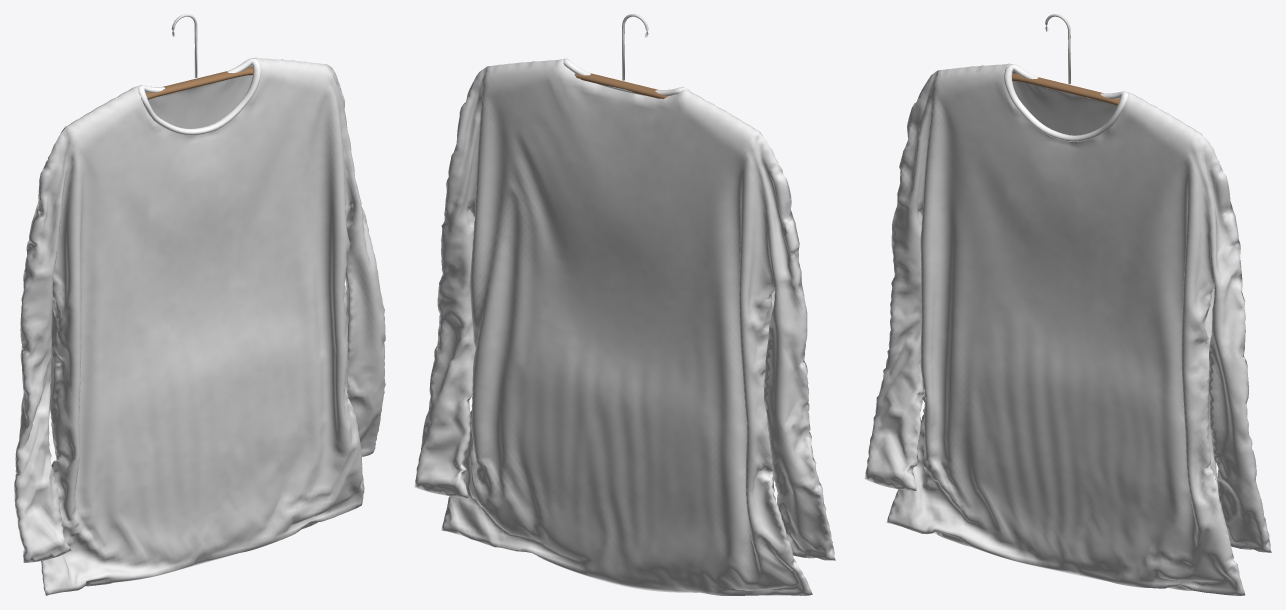
File: full-sleeve-v2.glb
3 views of the same model, side by side, from view 1: azimuth 30°, elevation 25°; view 2: azimuth 150°, elevation 25°; view 3: azimuth 330°, elevation 25° (orthographic). The views are drawn at different scales.
Parts seen in each view (by area): view 1: Shirt, Collar, HangerWood; view 2: Shirt, HangerWood; view 3: Shirt, Collar, HangerWood.
Boxes of the visible parts, box(x1,y1,x2,y2) form: Shirt: box(14, 57, 385, 595); Collar: box(137, 58, 261, 135); HangerWood: box(145, 67, 253, 99); Shirt: box(414, 59, 835, 595); HangerWood: box(574, 73, 667, 98); Shirt: box(864, 63, 1271, 595); Collar: box(1004, 64, 1127, 142); HangerWood: box(1012, 73, 1120, 105).
Bounding box in the file's own units: 0.5829 × 0.8158 × 0.0834.
4 materials, 1 textured.
